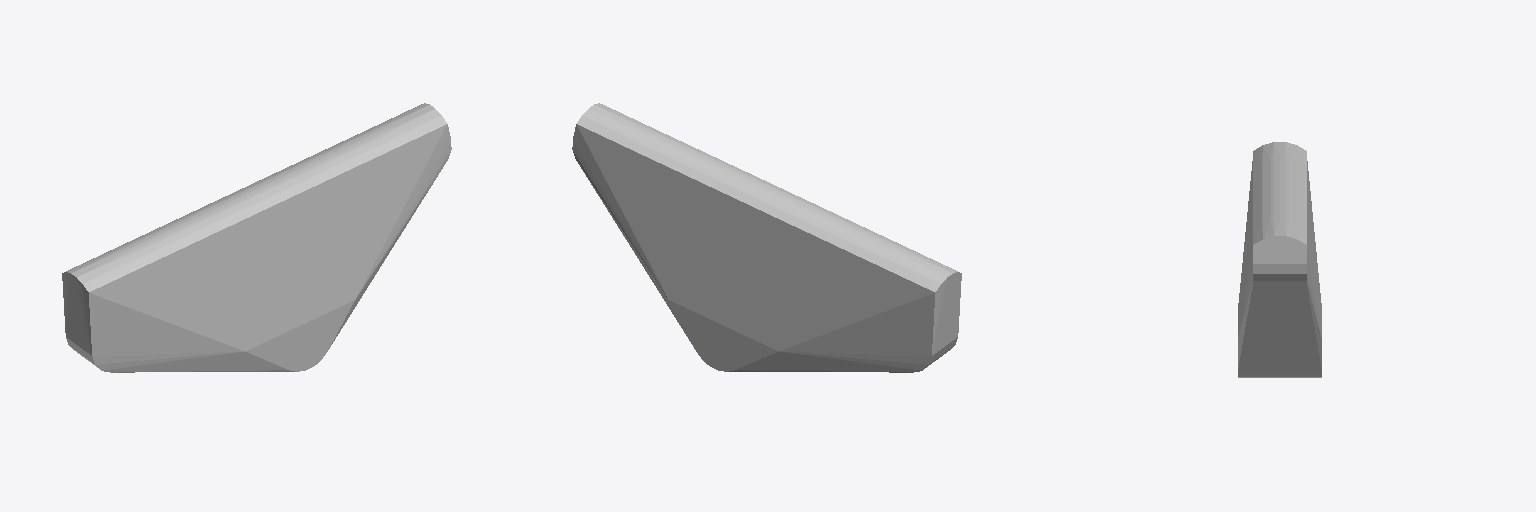
The model's file is right toe.obj.
The picture shows the model from 3 angles: view 1: azimuth 30°, elevation 25°; view 2: azimuth 150°, elevation 25°; view 3: azimuth 270°, elevation 25°; orthographic projection.
Visible parts, largest first — view 1: obj1; view 2: obj1; view 3: obj1.
Boxes of the visible parts, x1=… form: obj1: x1=62, y1=103, x2=451, y2=372; obj1: x1=572, y1=103, x2=961, y2=372; obj1: x1=1238, y1=142, x2=1321, y2=377.
Size of the model in its own units: 0.1588 by 0.0883 by 0.032.